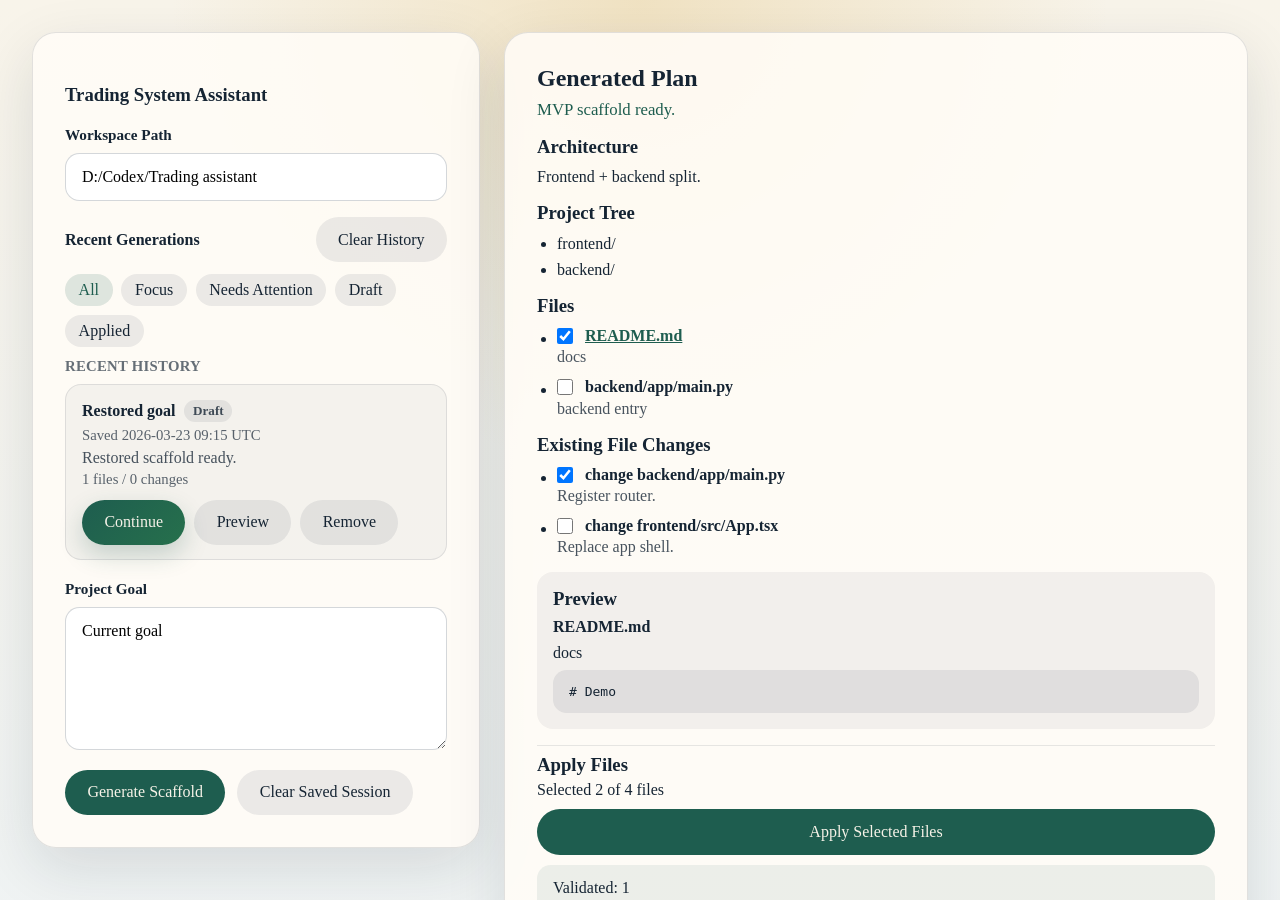
Test: App › restores a selected generation from the history panel
The image size is (1280, 900).
Expected: the heading "Generated Plan" is shown, x1=537 y1=65 x2=698 y2=91
Click the button with aria-label "continue restored goal". click: (134, 522)
box: x1=82 y1=500 x2=186 y2=545
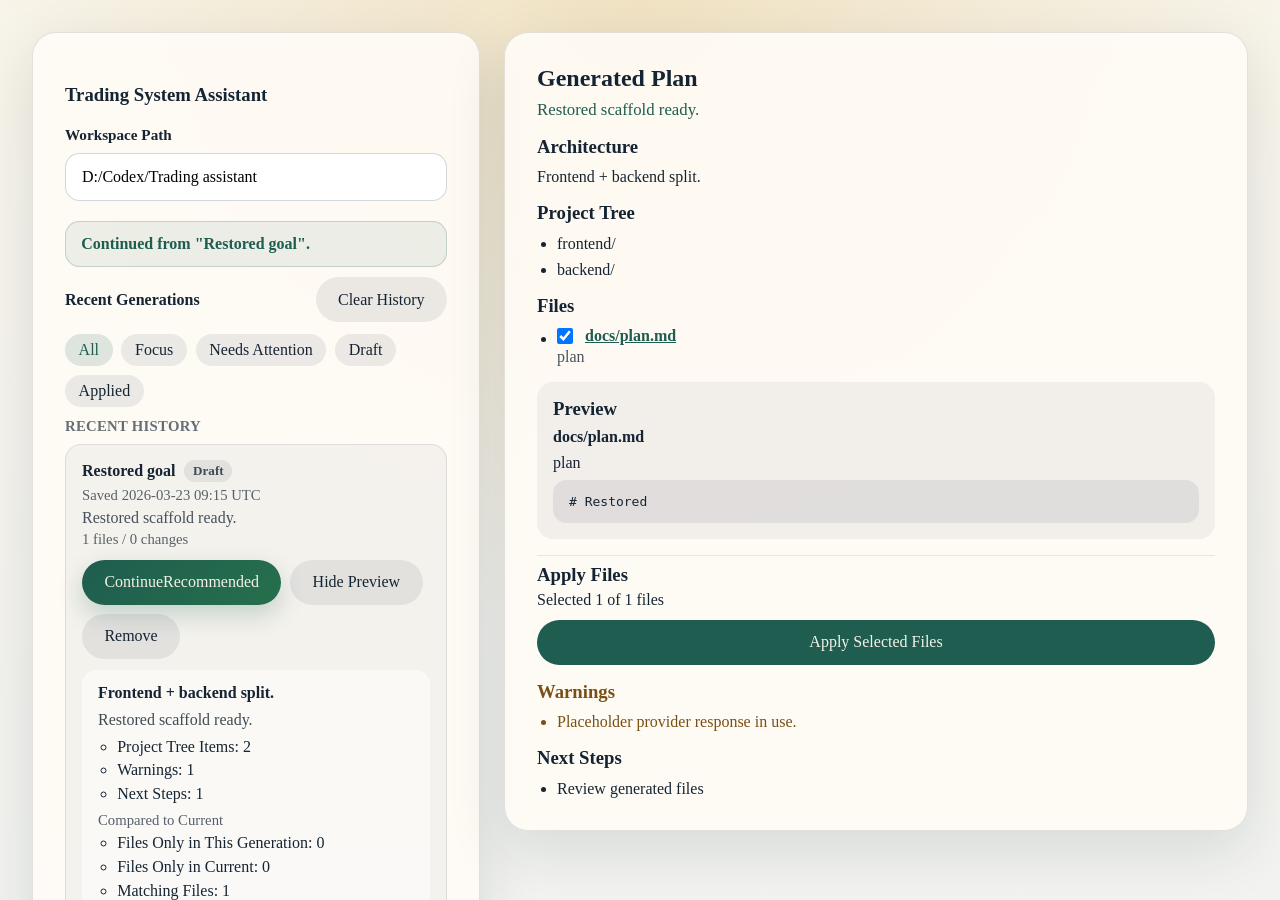
Result: the button "docs/plan.md" is shown at x1=585 y1=327 x2=676 y2=345
